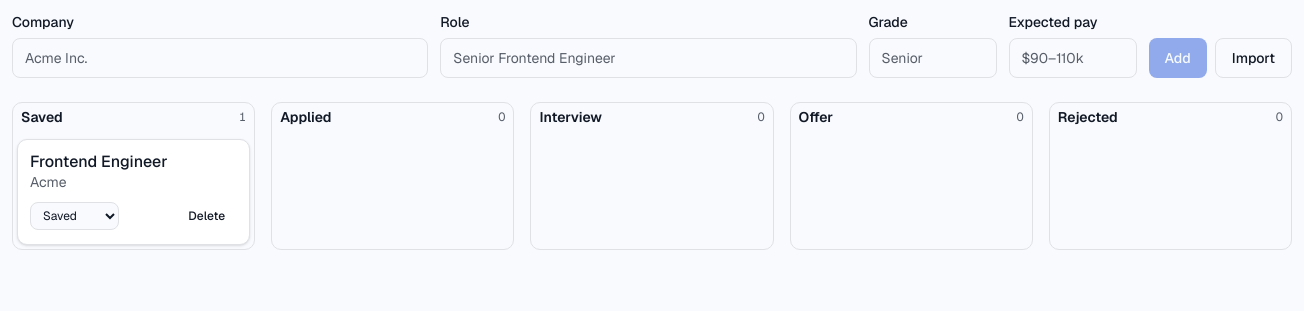
BoardView › rolls back an optimistic status change when the API fails
The width and height of the screenshot is (1304, 311).
Step 1. Select "Interview" in the dropdown named "status for frontend engineer" → [74, 216], box top-left (30, 202), bottom-right (119, 230)
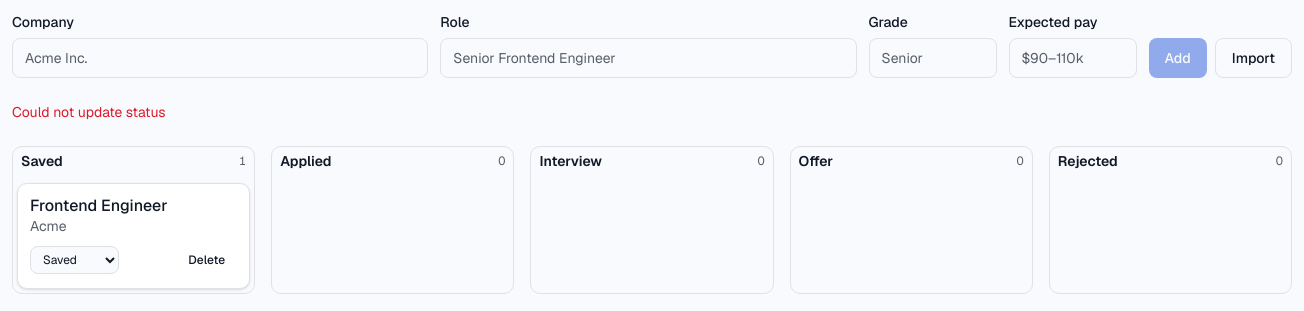
Expected: the dropdown named "status for frontend engineer" shows "Saved", top-left (30, 246), bottom-right (119, 274)
Result: the message "Could not update status" is shown at top-left (12, 103), bottom-right (166, 121)
